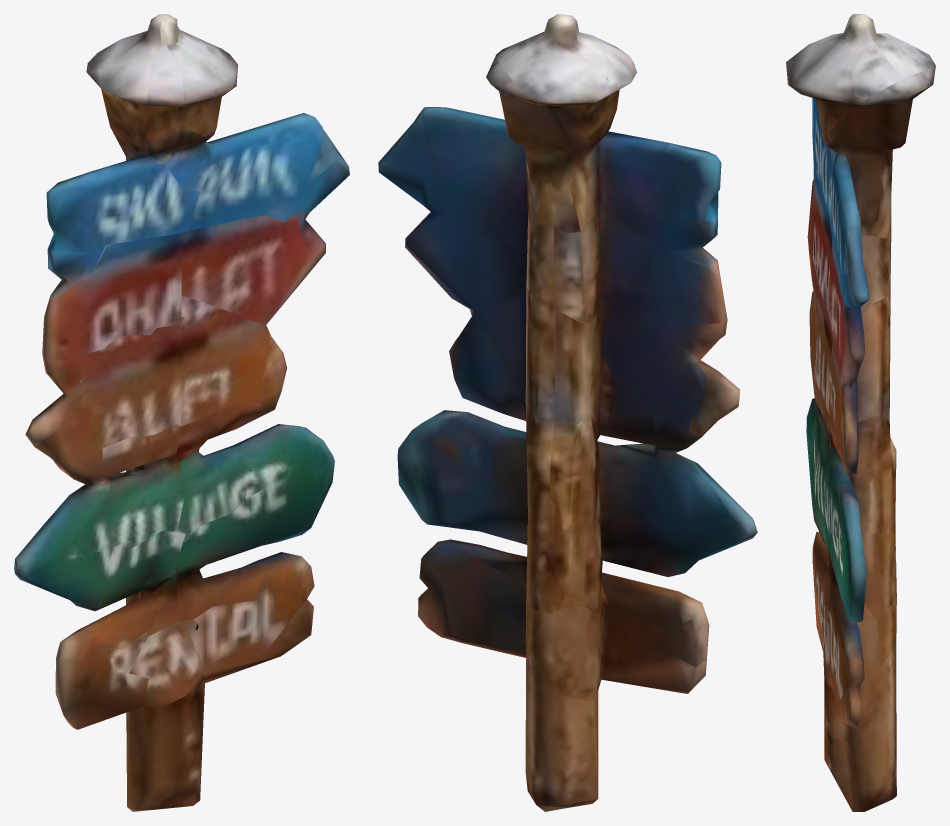
File: dio_signpost.glb
3 renders of one model, left to right at view 1: azimuth 30°, elevation 25°; view 2: azimuth 150°, elevation 25°; view 3: azimuth 270°, elevation 25°, orthographic.
Parts seen in each view (by area): view 1: tripo_part_8; view 2: tripo_part_8; view 3: tripo_part_8.
Part boxes in pixels (x1,y1,x2,y2): tripo_part_8: (14,14,349,811); tripo_part_8: (378,14,757,811); tripo_part_8: (786,14,935,811).
Bounding box in the file's own units: 0.0864 × 0.1835 × 0.0318.
Materials: 1 (1 with a texture image).
